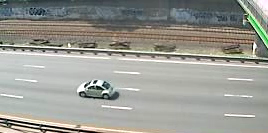car: (75, 78, 118, 101)
